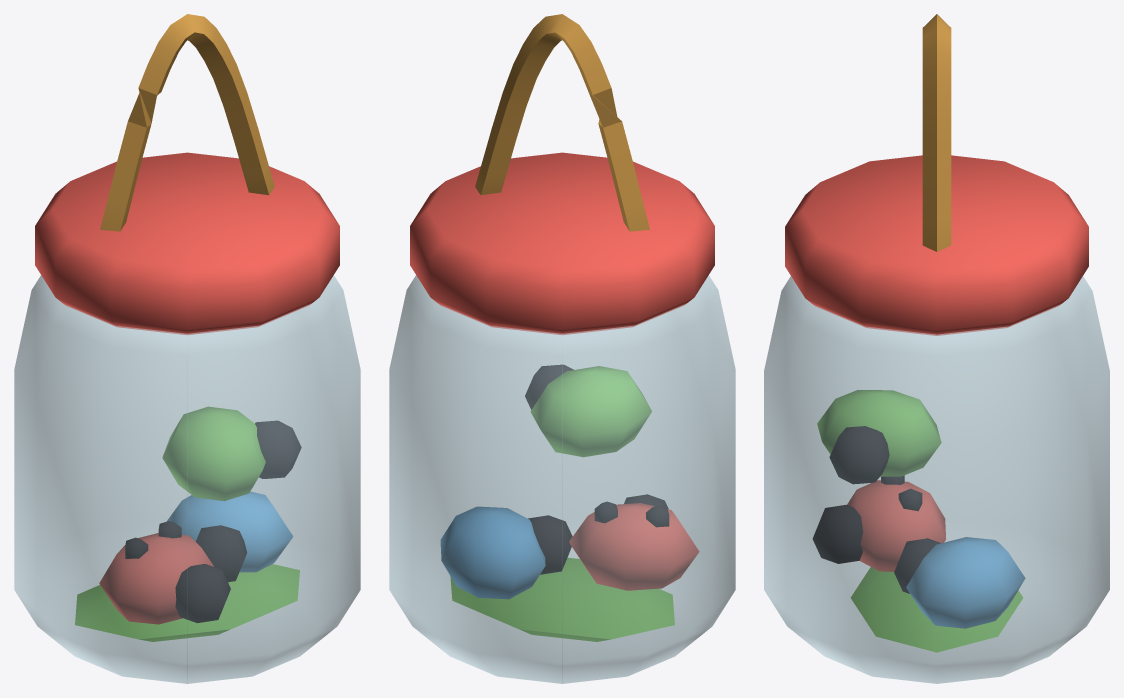
File: item_bugs.glb
The picture shows the model from 3 angles, left to right: view 1: azimuth 30°, elevation 25°; view 2: azimuth 150°, elevation 25°; view 3: azimuth 270°, elevation 25°; orthographic projection.
Visible parts, largest first — view 1: item_bugs; view 2: item_bugs; view 3: item_bugs.
Part boxes in pixels (left/top/right/bottom): item_bugs: left=14, top=14, right=360, bottom=683; item_bugs: left=389, top=14, right=735, bottom=683; item_bugs: left=764, top=14, right=1109, bottom=683.
Bounding box in the file's own units: 0.12 × 0.235 × 0.12.
